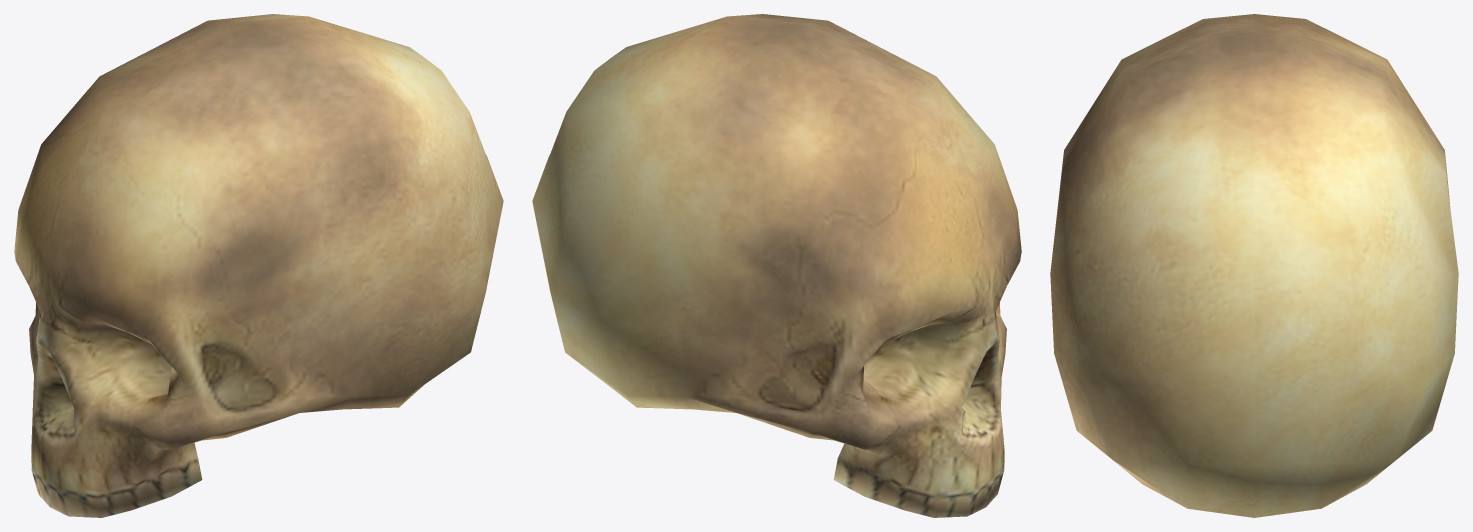
Rendered from Skull_02.FBX.
The picture shows the model from 3 angles, left to right: view 1: azimuth 30°, elevation 25°; view 2: azimuth 150°, elevation 25°; view 3: azimuth 270°, elevation 25°; orthographic projection. The views are drawn at different scales.
Parts seen in each view (by area): view 1: Skull_02; view 2: Skull_02; view 3: Skull_02.
Boxes of the visible parts, bbox=[...] form: Skull_02: bbox=[14, 14, 503, 517]; Skull_02: bbox=[532, 14, 1021, 517]; Skull_02: bbox=[1050, 14, 1458, 517].
Bounding box in the file's own units: 12.66 × 11.88 × 9.45.
